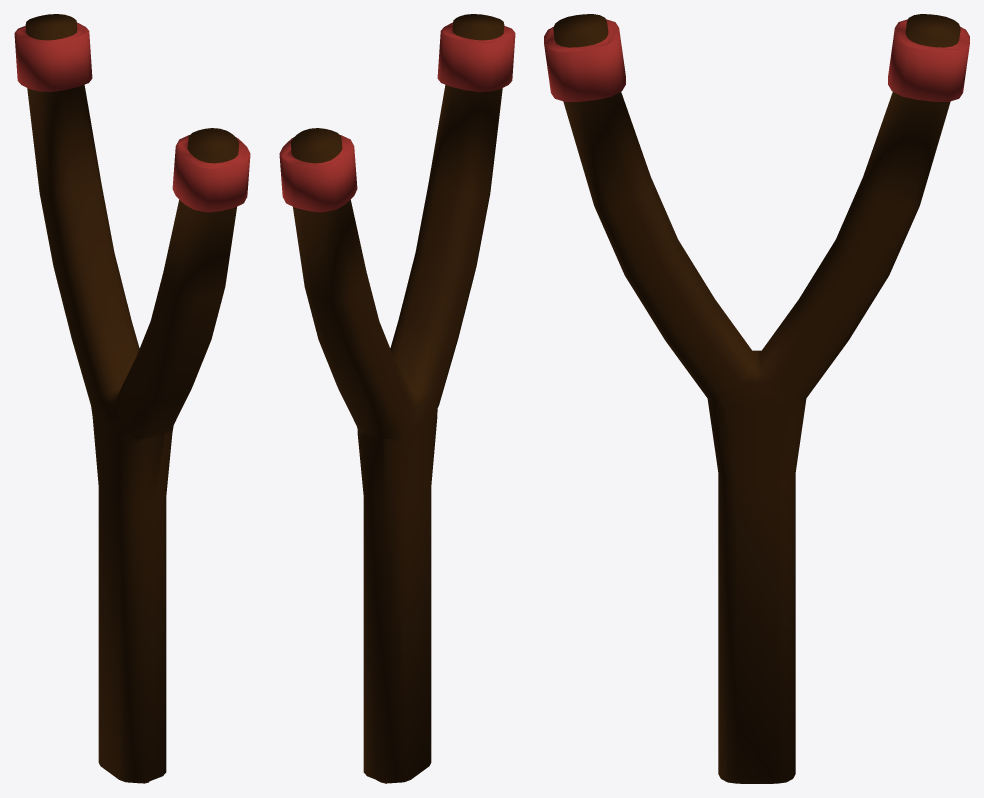
Rendered from slingshot.glb.
The picture shows the model from 3 angles, left to right: view 1: azimuth 30°, elevation 25°; view 2: azimuth 150°, elevation 25°; view 3: azimuth 270°, elevation 25°; orthographic projection. The views are drawn at different scales.
Visible parts, largest first — view 1: Cube; view 2: Cube; view 3: Cube.
Boxes of the visible parts, x1,y1,x2,y2 form: Cube: [14, 14, 250, 783]; Cube: [279, 14, 515, 783]; Cube: [544, 14, 969, 783].
Bounding box in the file's own units: 0.4755 × 5.31 × 2.72.
